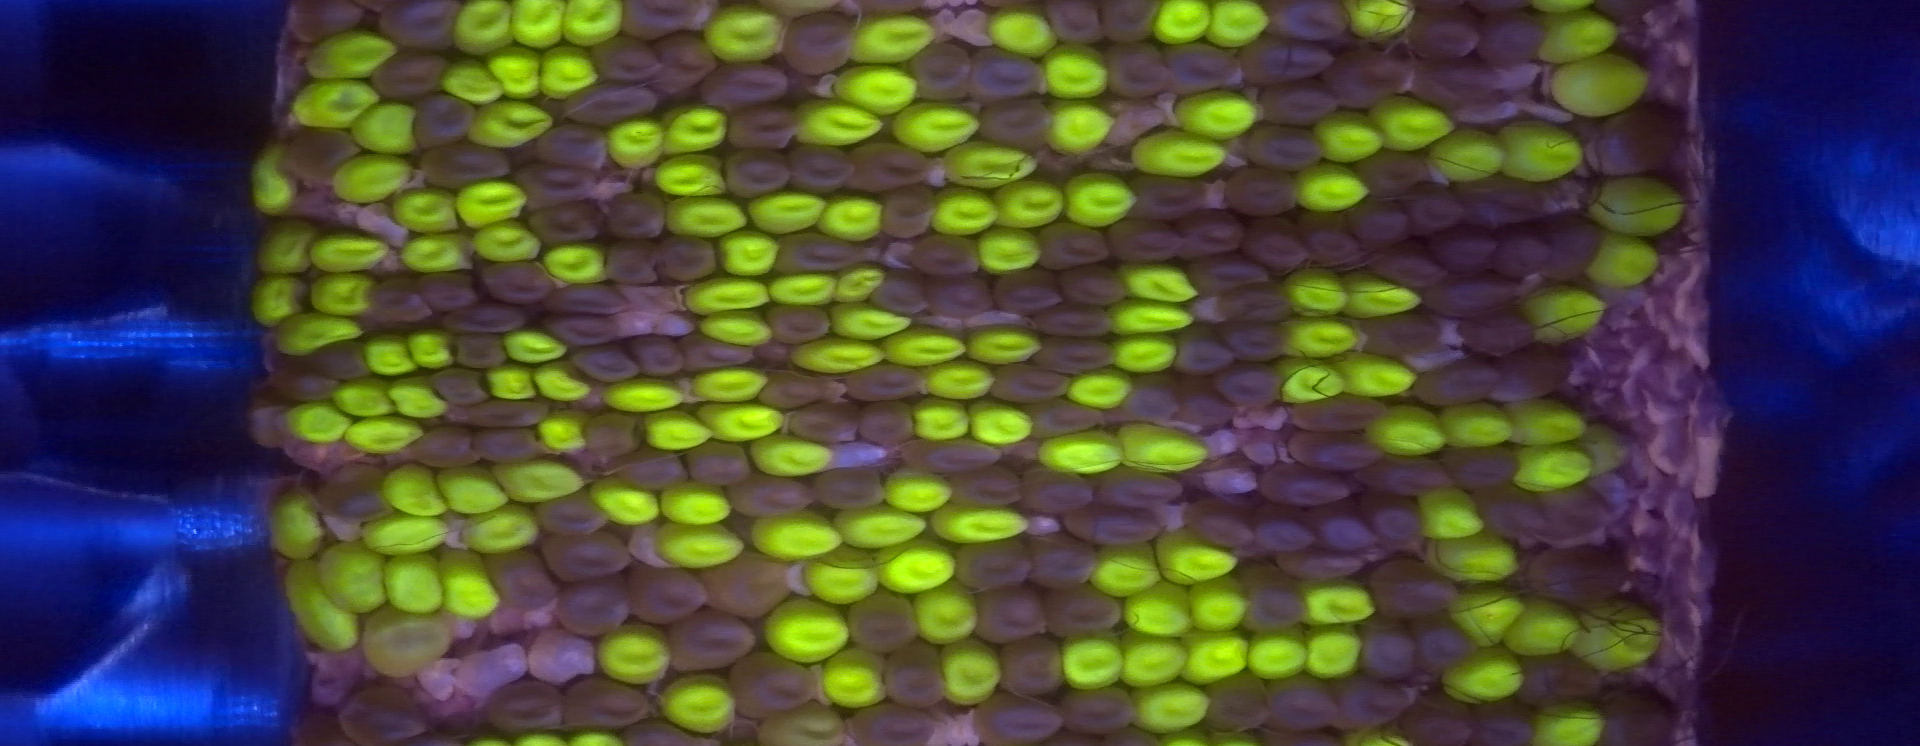fluorescent: (280, 559, 369, 655), (1549, 51, 1653, 122), (1587, 178, 1693, 243), (1569, 605, 1667, 675), (759, 597, 858, 663), (356, 608, 456, 674), (1116, 418, 1215, 480), (1124, 124, 1228, 183), (1494, 120, 1589, 184), (1582, 222, 1665, 292), (299, 26, 403, 81), (700, 4, 792, 66), (1365, 96, 1456, 157), (1152, 526, 1244, 586), (1502, 599, 1584, 665), (928, 499, 1036, 549), (1438, 650, 1531, 708), (430, 552, 506, 622), (827, 67, 932, 118), (1420, 533, 1521, 586), (1123, 680, 1215, 737), (1367, 403, 1452, 464), (267, 488, 332, 567), (883, 103, 991, 151), (1335, 266, 1424, 323), (869, 545, 962, 600), (909, 577, 984, 644), (744, 512, 849, 561), (938, 142, 1044, 190), (1522, 285, 1610, 343), (936, 638, 1005, 710), (383, 550, 451, 625), (1113, 630, 1188, 697), (322, 149, 418, 202), (1445, 590, 1527, 652), (591, 624, 676, 682), (1031, 430, 1131, 479), (841, 16, 940, 65), (1058, 174, 1147, 228), (789, 100, 889, 148), (491, 459, 591, 507), (649, 522, 749, 570), (984, 174, 1068, 230), (658, 677, 741, 734), (381, 459, 453, 524), (1522, 697, 1618, 746), (1168, 89, 1261, 140), (245, 145, 307, 219), (1500, 399, 1591, 451), (1114, 255, 1202, 307), (431, 463, 514, 518), (1291, 162, 1378, 214), (744, 432, 842, 479), (1330, 349, 1414, 403), (1509, 445, 1594, 497), (829, 503, 928, 549), (1038, 47, 1119, 102), (1058, 631, 1127, 696), (1427, 131, 1511, 184), (1434, 402, 1518, 454), (809, 190, 887, 247), (302, 230, 393, 279), (463, 103, 557, 149), (268, 314, 362, 360), (980, 10, 1064, 61), (1043, 103, 1120, 159), (687, 401, 791, 442), (653, 480, 743, 528), (1538, 12, 1620, 65), (287, 83, 384, 127), (1117, 584, 1195, 639), (1307, 111, 1385, 167), (1273, 355, 1349, 412), (658, 194, 754, 238), (1297, 577, 1379, 628), (804, 554, 882, 608), (1280, 315, 1367, 363), (1413, 488, 1487, 544), (787, 336, 889, 376), (347, 102, 422, 156), (1090, 545, 1167, 598), (819, 650, 887, 710), (1280, 269, 1354, 323), (659, 105, 738, 156), (396, 233, 484, 278), (743, 192, 831, 238), (360, 517, 456, 559), (655, 152, 736, 201), (680, 276, 778, 316), (451, 1, 519, 59), (1179, 631, 1250, 686), (962, 323, 1046, 370), (1299, 624, 1364, 682), (879, 465, 955, 516), (929, 186, 999, 240), (257, 222, 323, 278), (587, 479, 662, 528), (973, 224, 1046, 276), (1244, 628, 1310, 684), (538, 243, 613, 290), (877, 331, 972, 369), (340, 416, 427, 458), (753, 706, 842, 746), (602, 119, 670, 171), (964, 398, 1036, 447), (534, 49, 602, 100), (715, 229, 782, 281), (307, 269, 380, 317), (1188, 578, 1251, 632), (480, 49, 545, 102), (696, 311, 780, 352), (452, 183, 531, 225), (246, 274, 309, 328), (643, 409, 716, 454), (1104, 334, 1187, 375), (921, 361, 1000, 403), (598, 379, 691, 414), (462, 510, 542, 550), (438, 58, 504, 107), (467, 224, 546, 265), (907, 398, 975, 446), (828, 303, 915, 339), (284, 404, 354, 450), (1576, 423, 1636, 475), (1101, 303, 1200, 334), (560, 1, 624, 49), (1211, 1, 1273, 50), (328, 380, 403, 420), (1147, 1, 1213, 47), (383, 380, 454, 421), (396, 187, 460, 233), (529, 360, 595, 404), (1060, 372, 1139, 409), (683, 371, 776, 402), (534, 413, 594, 459), (497, 330, 576, 365), (509, 1, 567, 49), (764, 274, 842, 309), (482, 363, 542, 405), (1343, 1, 1417, 36), (403, 330, 460, 372), (833, 263, 888, 307), (362, 341, 420, 379)
nonfluorescent: (1582, 108, 1689, 174), (1513, 652, 1610, 717), (1527, 545, 1629, 605), (703, 556, 795, 621), (729, 655, 827, 715), (673, 610, 760, 677), (964, 586, 1052, 649), (624, 563, 709, 627), (842, 592, 927, 655), (337, 691, 436, 745), (561, 677, 658, 733), (1368, 561, 1460, 619), (1491, 350, 1581, 409), (1327, 48, 1414, 108), (1411, 60, 1504, 115), (1540, 216, 1607, 293), (1412, 610, 1472, 695), (485, 548, 564, 611), (474, 257, 562, 314), (1463, 175, 1551, 232), (1242, 567, 1315, 635), (1330, 671, 1406, 736), (1280, 429, 1391, 473), (1062, 503, 1167, 550), (1600, 687, 1684, 746), (1262, 676, 1342, 737), (725, 469, 824, 518), (976, 98, 1059, 156), (1298, 211, 1370, 277), (1239, 213, 1319, 273), (961, 48, 1052, 100), (1042, 582, 1127, 638), (1234, 36, 1333, 83), (280, 126, 362, 184), (1180, 496, 1259, 556), (778, 16, 858, 73), (1254, 462, 1359, 506), (556, 579, 638, 636), (972, 697, 1067, 746), (1201, 673, 1272, 737), (538, 530, 633, 578), (485, 684, 569, 737), (1367, 447, 1455, 499), (844, 142, 936, 191), (1537, 488, 1611, 548), (1223, 163, 1304, 218), (884, 644, 951, 710), (1247, 120, 1331, 173), (1356, 314, 1446, 363), (558, 82, 665, 124), (1404, 5, 1483, 61), (700, 62, 795, 109), (1092, 467, 1184, 514), (1256, 1, 1353, 47), (770, 232, 869, 276), (920, 271, 1002, 323), (373, 1, 465, 48), (999, 641, 1069, 702), (369, 51, 456, 100), (1286, 397, 1391, 437), (906, 43, 980, 100), (1104, 217, 1187, 268), (516, 162, 611, 206), (316, 470, 396, 523), (411, 92, 481, 152), (415, 146, 518, 186), (953, 540, 1033, 592), (1416, 363, 1502, 410), (846, 703, 943, 746), (895, 439, 1011, 474), (1033, 220, 1116, 271), (1477, 9, 1547, 67), (1408, 687, 1478, 746), (1359, 619, 1420, 685), (1422, 274, 1524, 314), (1469, 488, 1544, 541), (1016, 465, 1098, 514), (1207, 361, 1287, 412), (1444, 446, 1523, 496), (787, 141, 860, 196), (945, 465, 1029, 513), (724, 107, 804, 156), (1128, 173, 1209, 222), (612, 1, 713, 40), (535, 122, 615, 171), (1103, 43, 1171, 100), (1261, 85, 1346, 130), (1172, 321, 1236, 381), (1033, 529, 1100, 587), (602, 238, 675, 290), (722, 149, 796, 201), (991, 268, 1065, 318), (1163, 40, 1234, 93), (659, 36, 720, 96), (989, 361, 1075, 404), (1371, 499, 1431, 560), (1496, 223, 1560, 281), (1022, 398, 1112, 439), (879, 186, 943, 243), (1216, 318, 1291, 366), (842, 365, 931, 405), (1177, 209, 1249, 258), (910, 234, 986, 281), (362, 281, 438, 327), (615, 448, 691, 495), (684, 443, 760, 490), (1276, 545, 1375, 581), (867, 267, 933, 320), (299, 341, 380, 383), (673, 333, 759, 374), (525, 207, 613, 246), (1187, 257, 1275, 296), (589, 39, 665, 85), (601, 194, 671, 243), (1249, 507, 1319, 556), (1347, 197, 1412, 250), (534, 495, 618, 535), (1056, 267, 1133, 311), (1070, 688, 1141, 736), (267, 363, 350, 403), (1119, 374, 1182, 428), (1430, 228, 1502, 274), (1463, 312, 1539, 356), (1313, 506, 1379, 556), (283, 1, 367, 40), (1030, 339, 1123, 375), (1404, 183, 1468, 234), (765, 300, 838, 345), (816, 467, 888, 512), (789, 402, 862, 446), (1378, 247, 1451, 292), (408, 428, 479, 473), (853, 402, 921, 450), (414, 271, 489, 314), (656, 234, 720, 284), (1180, 379, 1239, 432), (1098, 1, 1168, 47), (542, 281, 634, 315), (443, 401, 555, 429), (1033, 303, 1116, 341), (624, 336, 693, 381), (1220, 283, 1296, 323), (471, 425, 547, 465), (1188, 452, 1259, 495), (1044, 1, 1108, 49), (1352, 154, 1427, 195), (542, 311, 624, 348), (247, 386, 296, 447), (1473, 706, 1544, 746), (446, 300, 529, 334), (584, 413, 645, 459), (429, 364, 493, 407), (758, 371, 827, 412), (572, 347, 644, 385), (456, 332, 511, 370)
